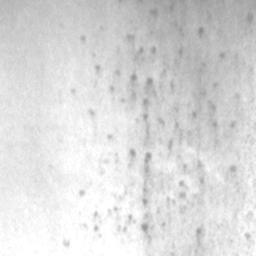Pitted surface: (84, 73, 166, 244), (167, 160, 205, 213), (168, 119, 191, 151), (227, 165, 239, 192), (134, 47, 156, 61), (195, 224, 204, 254), (246, 207, 256, 220), (244, 232, 254, 241), (198, 27, 204, 37)
